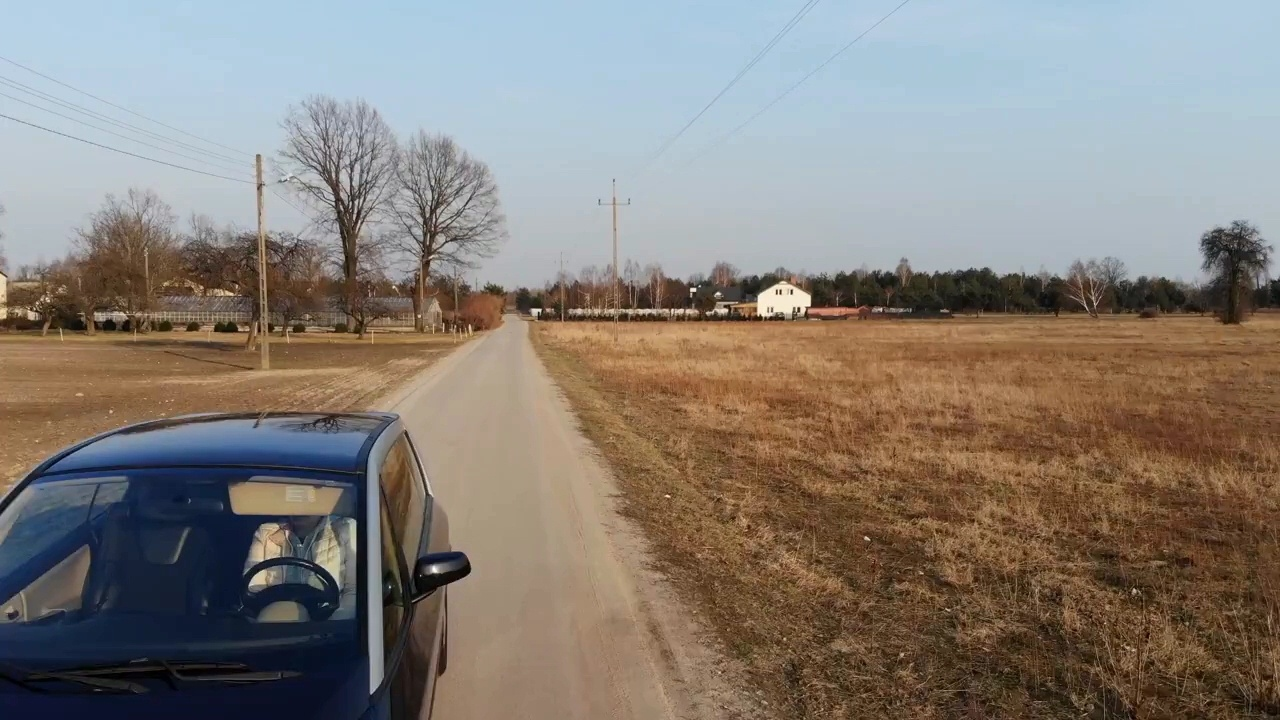araba: (2, 412, 471, 720)
